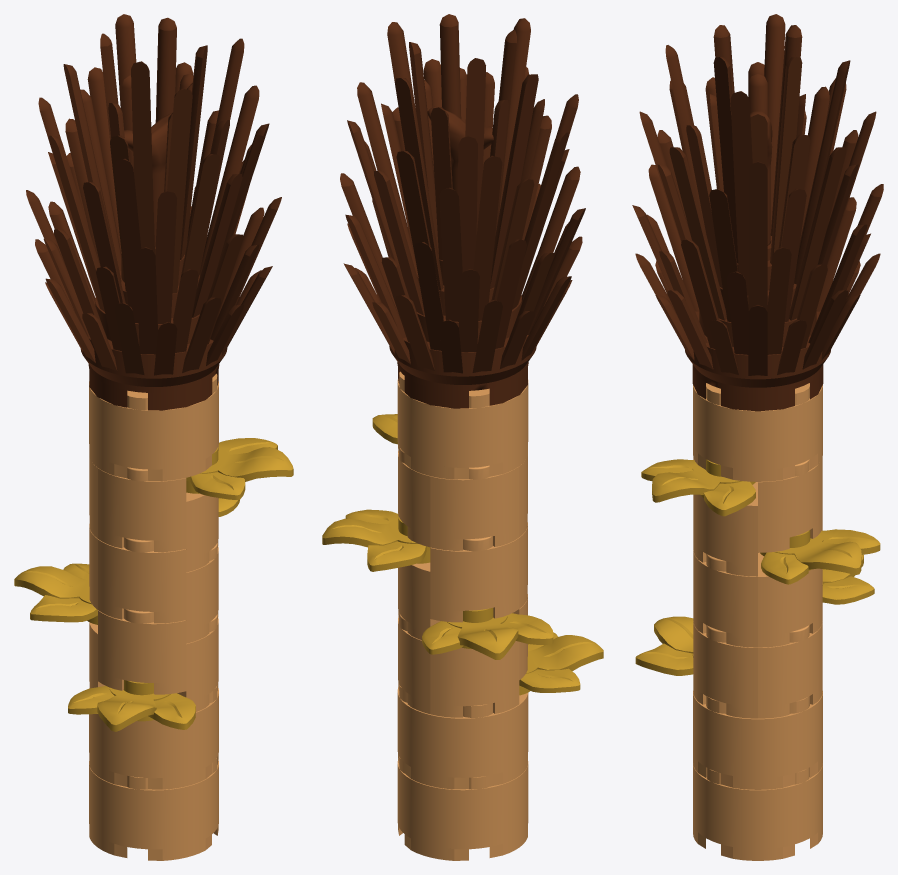
File: palme.glb
3 renders of one model, left to right at view 1: azimuth 30°, elevation 25°; view 2: azimuth 150°, elevation 25°; view 3: azimuth 270°, elevation 25°, orthographic.
Parts seen in each view (by area): view 1: 6064.dat, 3941.dat.002, 3941.dat, 3941.dat.001, 7532.dat.006, 7532.dat.003, 7532.dat.010, 32607.dat.003, 32607.dat.001, 32607.dat.002, 7532.dat.005, 7532.dat (+5 smaller); view 2: 6064.dat, 3941.dat.001, 3941.dat.002, 3941.dat, 7532.dat.007, 7532.dat.011, 7532.dat.002, 32607.dat.002, 32607.dat, 32607.dat.003, 7532.dat.009, 7532.dat.001 (+5 smaller); view 3: 6064.dat, 3941.dat.001, 3941.dat.002, 3941.dat, 7532.dat.005, 7532.dat, 7532.dat.001, 7532.dat.009, 32607.dat, 7532.dat.004, 7532.dat.008, 32607.dat.001 (+3 smaller).
Boxes of the visible parts, <box> form: 6064.dat: <box>26,14,281,410</box>; 3941.dat.002: <box>89,373,218,481</box>; 3941.dat: <box>89,757,218,860</box>; 3941.dat.001: <box>89,685,218,789</box>; 7532.dat.006: <box>98,537,186,623</box>; 7532.dat.003: <box>98,609,186,694</box>; 7532.dat.010: <box>98,467,186,552</box>; 32607.dat.003: <box>68,680,195,731</box>; 32607.dat.001: <box>186,438,293,499</box>; 32607.dat.002: <box>14,563,97,624</box>; 7532.dat.005: <box>186,543,218,643</box>; 7532.dat: <box>177,614,218,711</box>; 6064.dat: <box>340,14,585,408</box>; 3941.dat.001: <box>397,685,528,789</box>; 3941.dat.002: <box>397,371,528,479</box>; 3941.dat: <box>397,757,528,860</box>; 7532.dat.007: <box>430,536,519,622</box>; 7532.dat.011: <box>430,465,519,550</box>; 7532.dat.002: <box>430,641,519,717</box>; 32607.dat.002: <box>422,608,553,659</box>; 32607.dat: <box>322,509,430,571</box>; 32607.dat.003: <box>519,632,603,695</box>; 7532.dat.009: <box>398,447,430,547</box>; 7532.dat.001: <box>398,613,430,713</box>; 6064.dat: <box>632,14,883,411</box>; 3941.dat.001: <box>693,691,822,789</box>; 3941.dat.002: <box>693,383,822,481</box>; 3941.dat: <box>693,764,822,860</box>; 7532.dat.005: <box>693,550,757,647</box>; 7532.dat: <box>693,622,757,718</box>; 7532.dat.001: <box>758,622,822,718</box>; 7532.dat.009: <box>758,458,822,552</box>; 32607.dat: <box>760,529,880,584</box>; 7532.dat.004: <box>758,552,822,647</box>; 7532.dat.008: <box>693,482,757,576</box>; 32607.dat.001: <box>641,459,755,516</box>.
Size of the model in its own units: 0.7702 by 2.68 by 0.7702.
